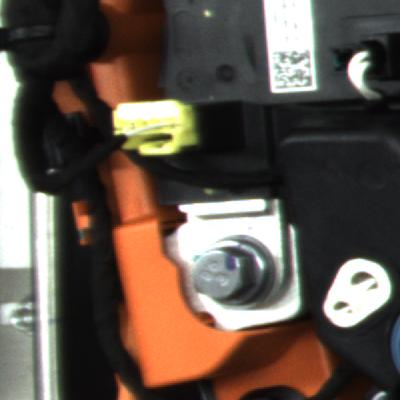nut_b: (185, 228, 283, 319)
